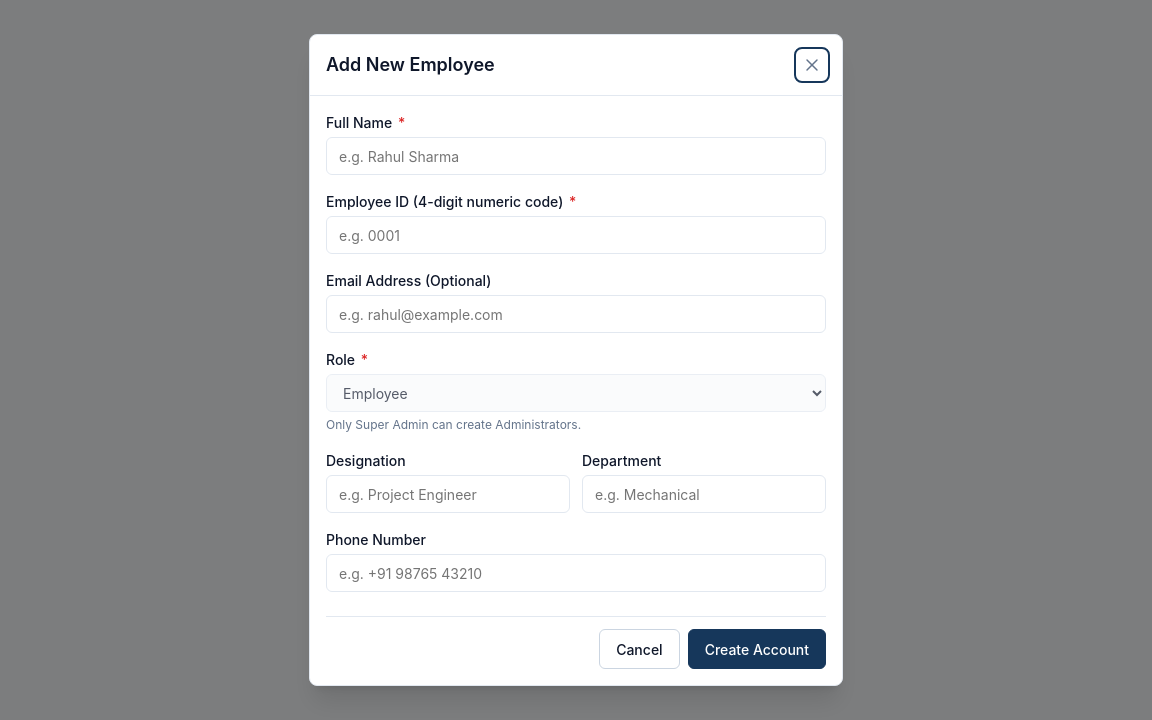
Test: CreateEmployeeModal › validates 4-digit employee code and blocks reserved 9999
Type "Test User" into the field with test id "create-emp-name-input" at (576, 156), box x1=326 y1=137 x2=826 y2=175
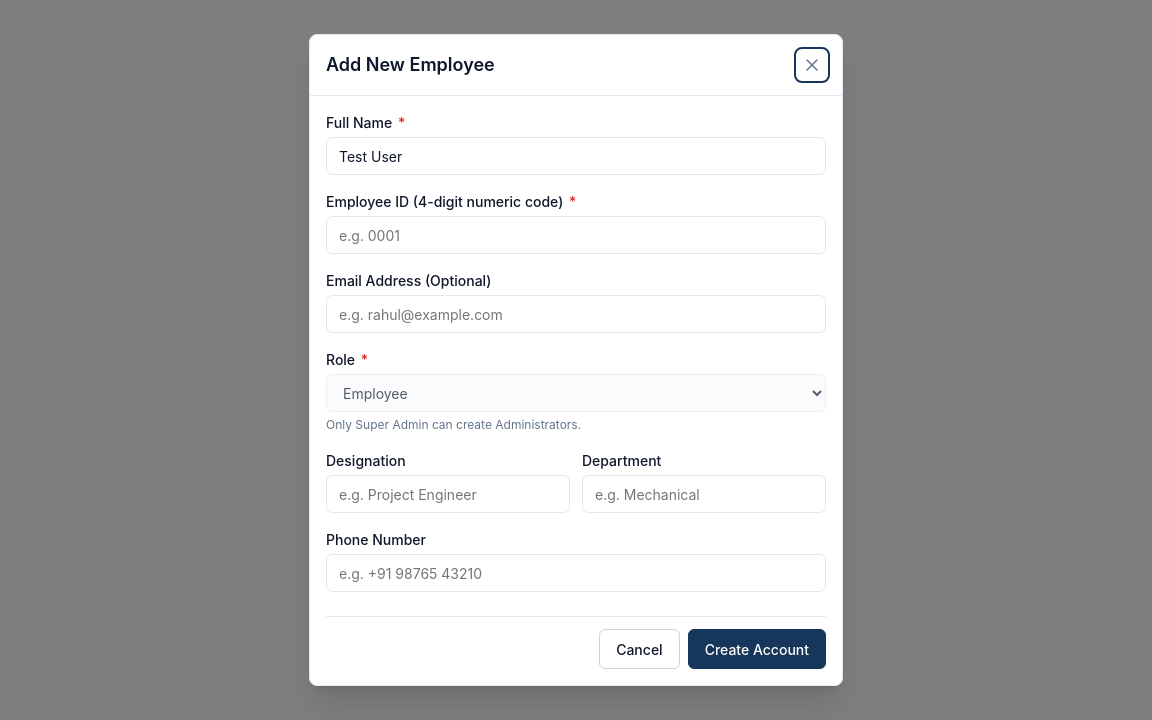
Type "123" into the field with test id "create-emp-code-input" at (576, 235), box x1=326 y1=216 x2=826 y2=254
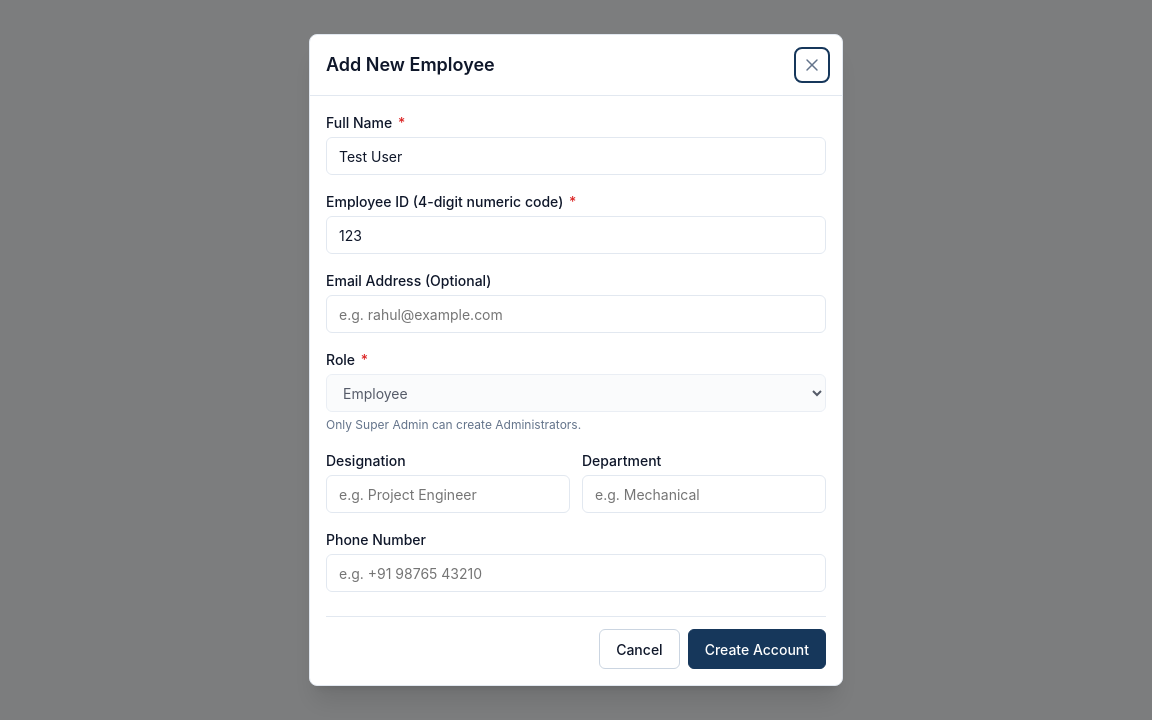
Click the button with test id "create-emp-submit-btn" at (757, 649), box x1=688 y1=629 x2=826 y2=669
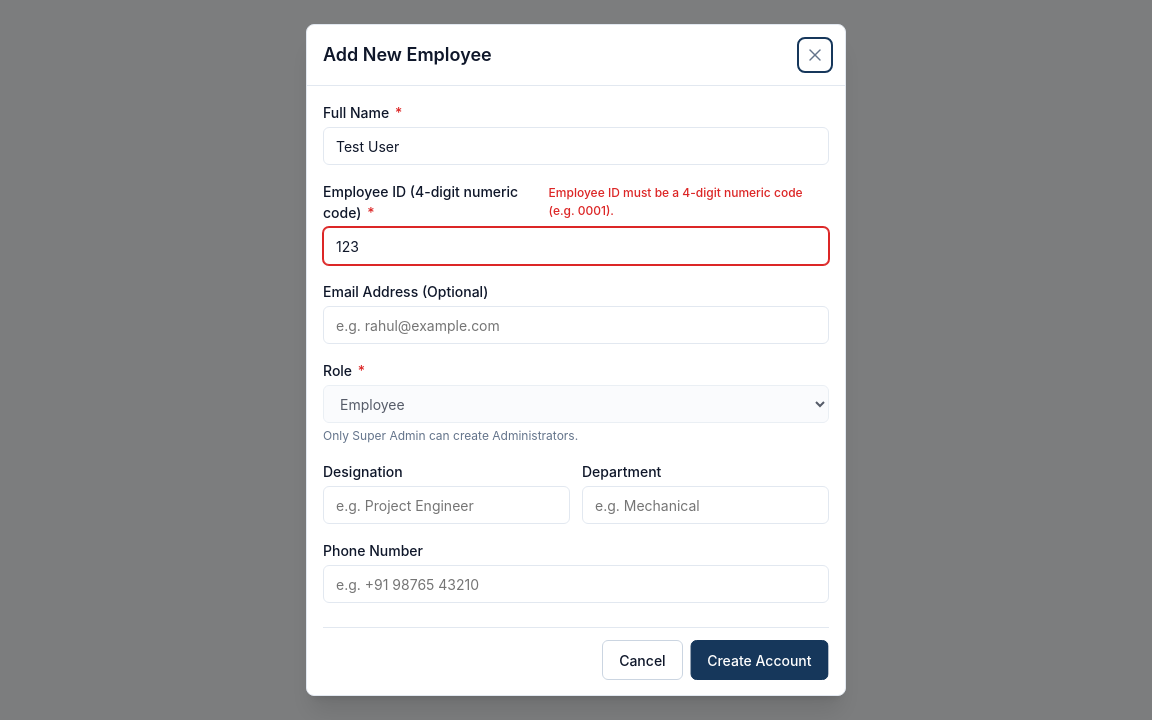
Now the message with test id "error-code" shows "Employee ID must be a 4-digit numeric code", box x1=549 y1=185 x2=803 y2=218
Replace the text in the field with test id "create-emp-code-input" with "9999" at (576, 246), box x1=323 y1=227 x2=829 y2=265
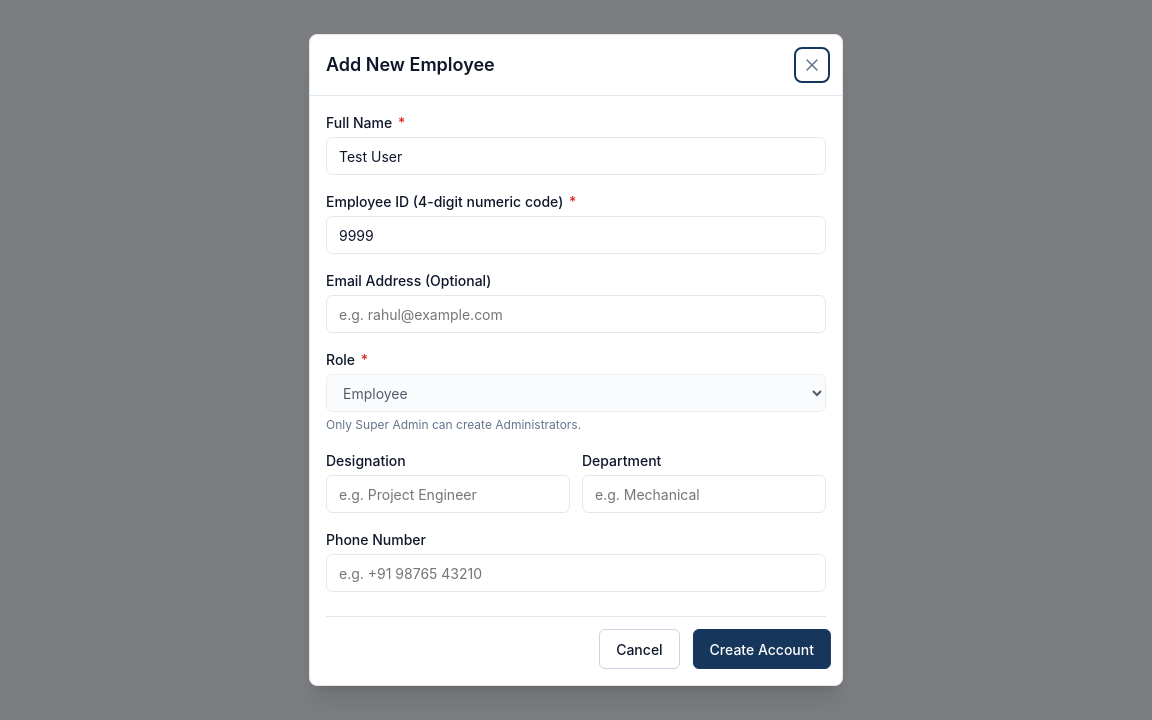
Click the button with test id "create-emp-submit-btn" at (757, 649), box x1=688 y1=629 x2=826 y2=669
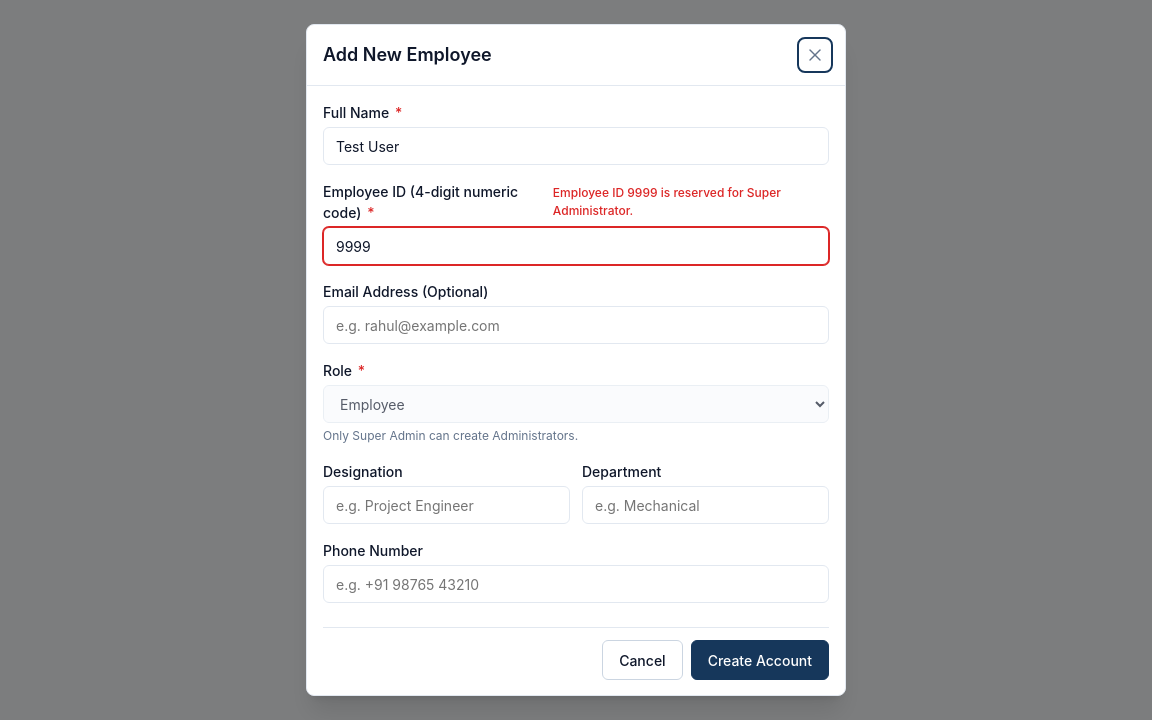
Now the message with test id "error-code" reads "Employee ID 9999 is reserved for Super Administrator.", box x1=553 y1=185 x2=781 y2=218
